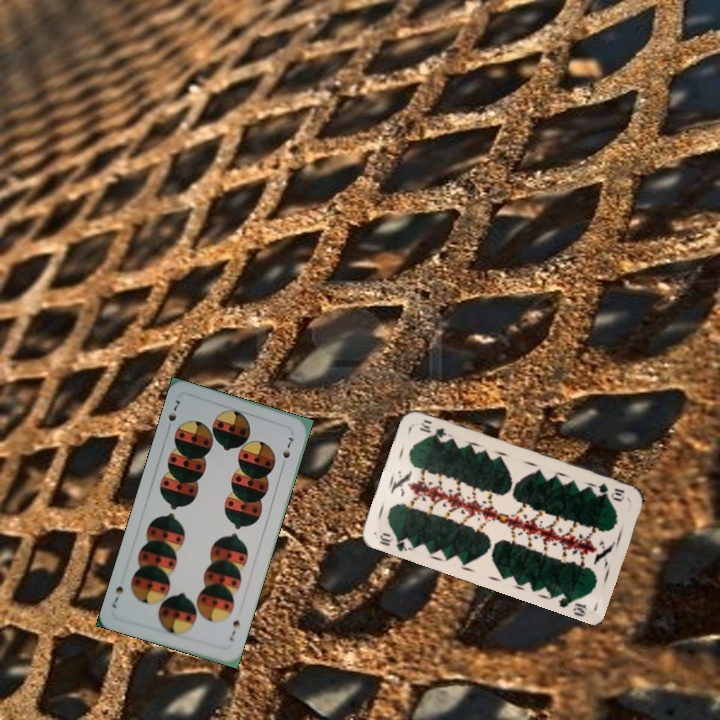G10: (376, 528, 414, 554), (594, 479, 627, 504)
S7: (163, 395, 183, 434), (225, 616, 242, 644)
